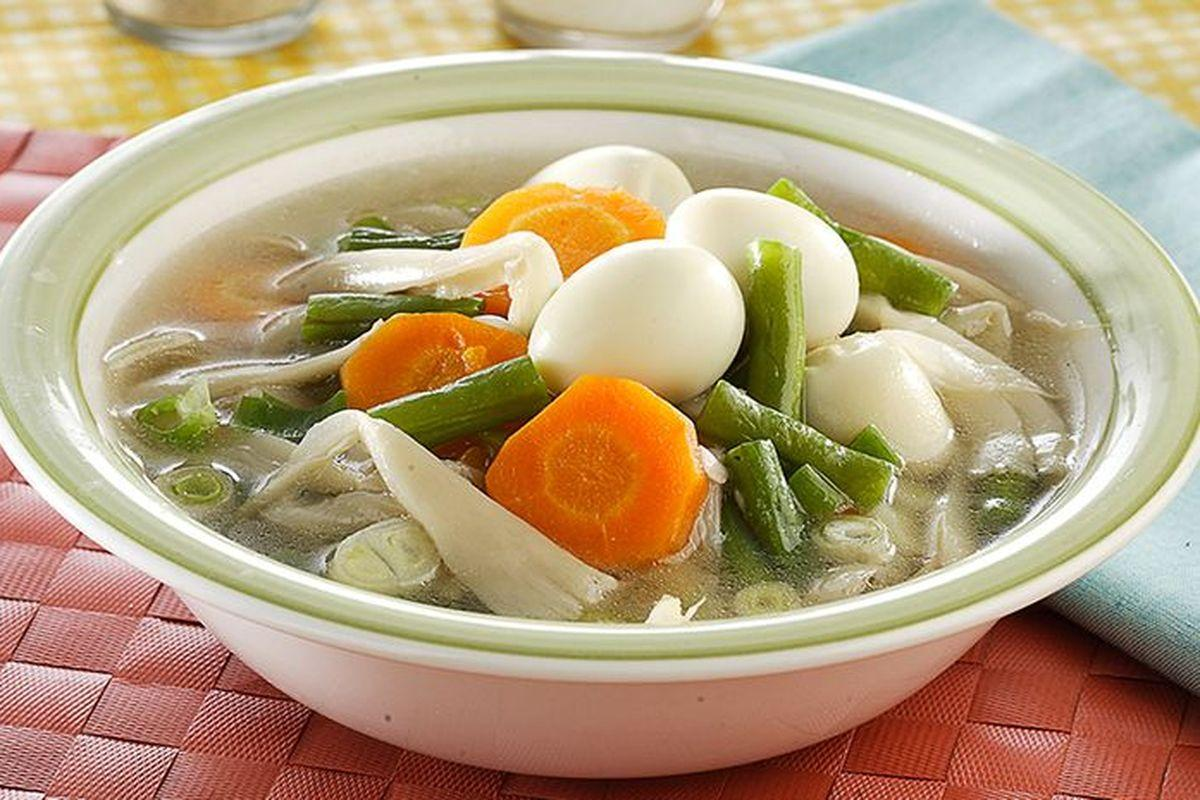buah_sayur_vitA: (357, 189, 547, 411), (556, 405, 671, 547)
telur: (582, 263, 710, 372), (836, 343, 951, 427)
